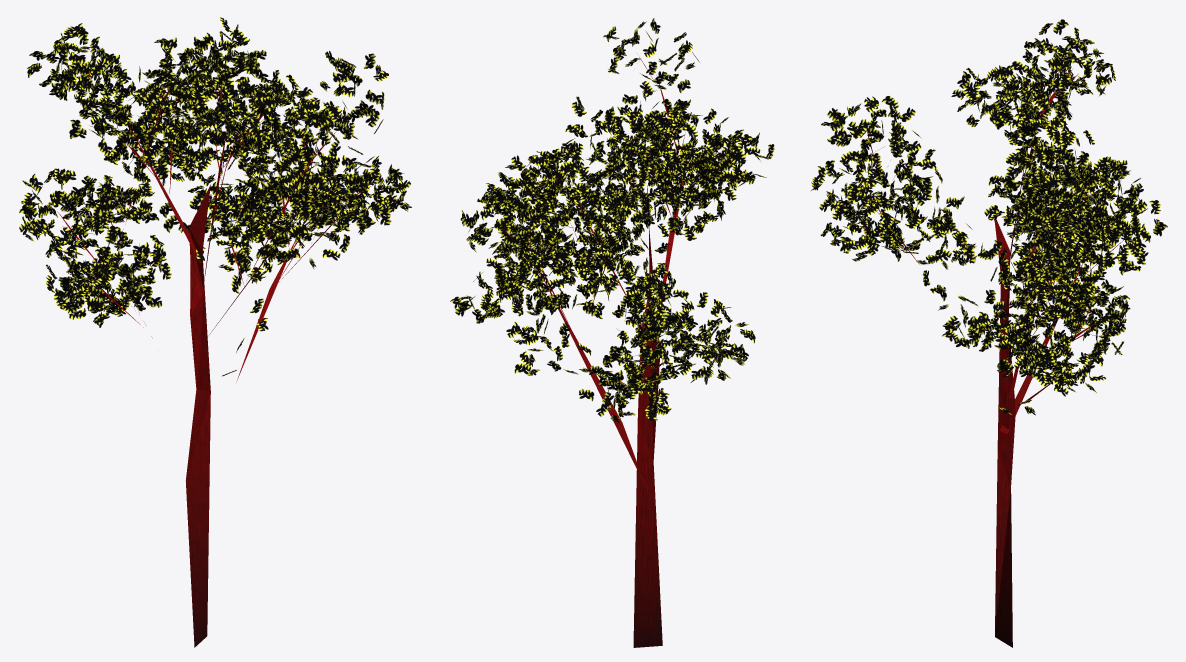
File: cottonwood_river_v03_LOD2.glb
3 renders of one model, left to right at view 1: azimuth 30°, elevation 25°; view 2: azimuth 150°, elevation 25°; view 3: azimuth 270°, elevation 25°, orthographic. The views are drawn at different scales.
Visible parts, largest first — view 1: cottonwood_river_v03_LOD2; view 2: cottonwood_river_v03_LOD2; view 3: cottonwood_river_v03_LOD2.
Boxes of the visible parts, bbox=[...] form: cottonwood_river_v03_LOD2: bbox=[19, 17, 411, 647]; cottonwood_river_v03_LOD2: bbox=[450, 18, 774, 647]; cottonwood_river_v03_LOD2: bbox=[810, 19, 1167, 647].
Size of the model in its own units: 21.18 by 37.44 by 21.24.
2 materials, 2 textured.
